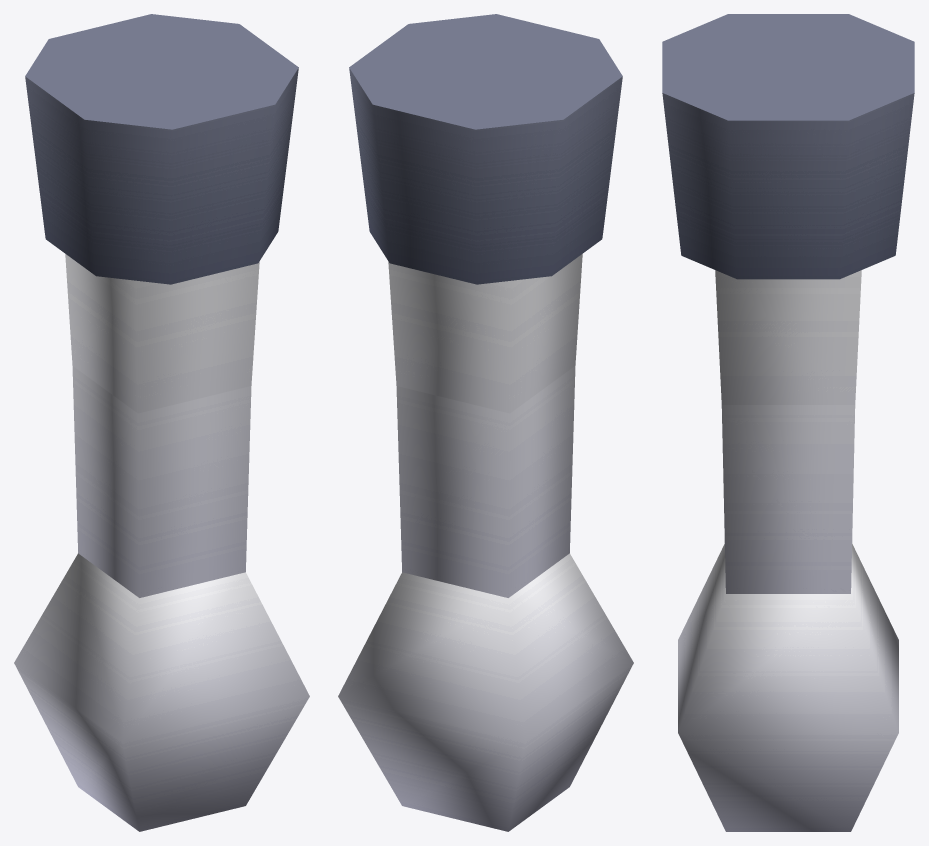
The model's file is aid-cane-blind.glb.
The picture shows the model from 3 angles, left to right: view 1: azimuth 30°, elevation 25°; view 2: azimuth 150°, elevation 25°; view 3: azimuth 270°, elevation 25°; orthographic projection.
Parts seen in each view (by area): view 1: aid-cane-blind; view 2: aid-cane-blind; view 3: aid-cane-blind.
Part boxes in pixels (<box>): aid-cane-blind: <box>14,14,309,831</box>; aid-cane-blind: <box>338,14,633,831</box>; aid-cane-blind: <box>662,14,914,831</box>.
Bounding box in the file's own units: 0.096 × 0.31 × 0.096.
1 material, 1 textured.
